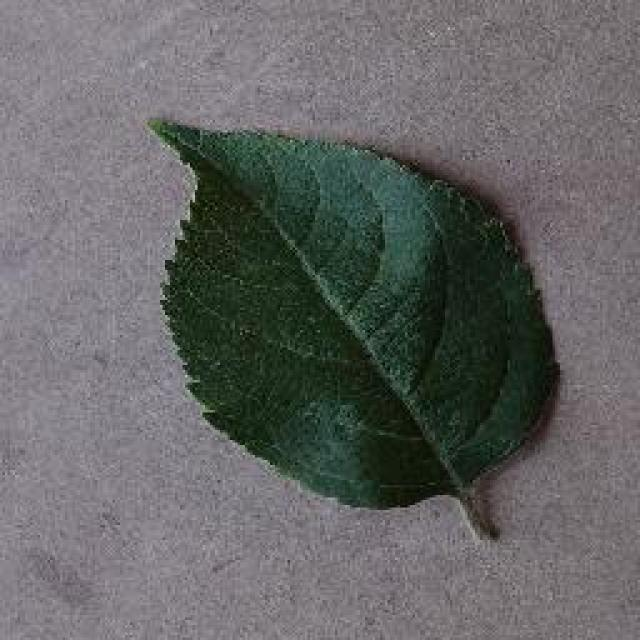apple healthy: (142, 112, 562, 540)
